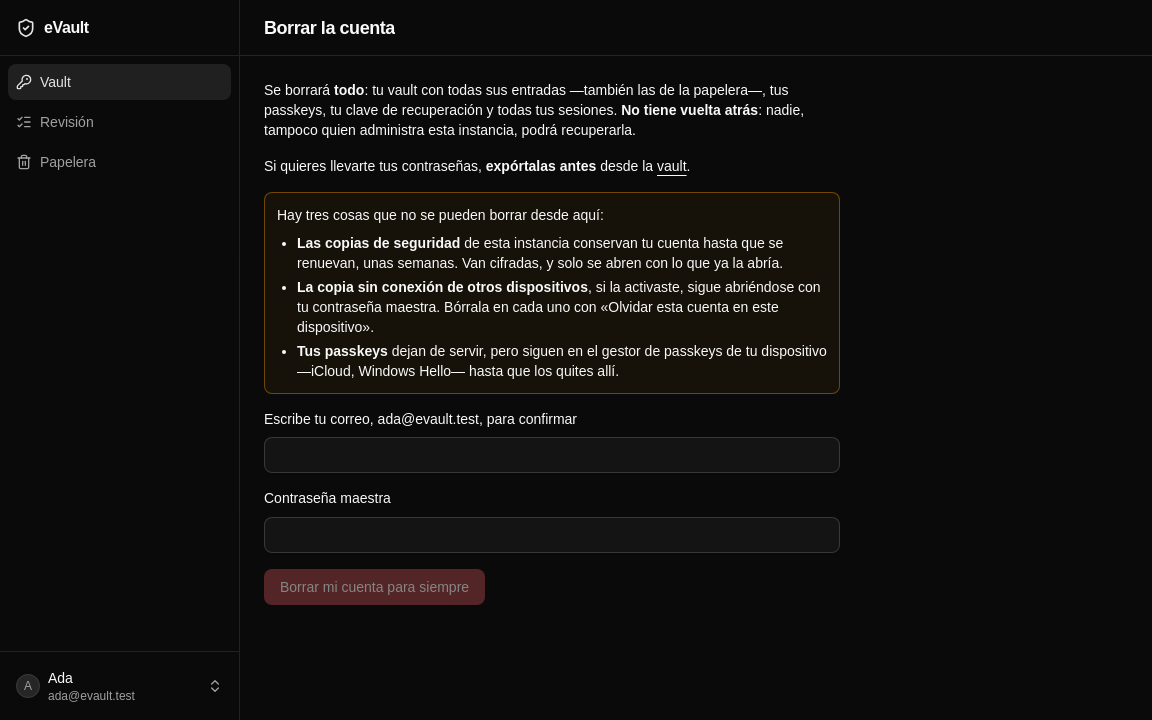
Test: deleting › says what failed and that nothing was deleted
Type "ada@evault.test" into the field labelled "Escribe tu correo, ada@evault.test, para confirmar" at (552, 455), box [264,437,840,473]
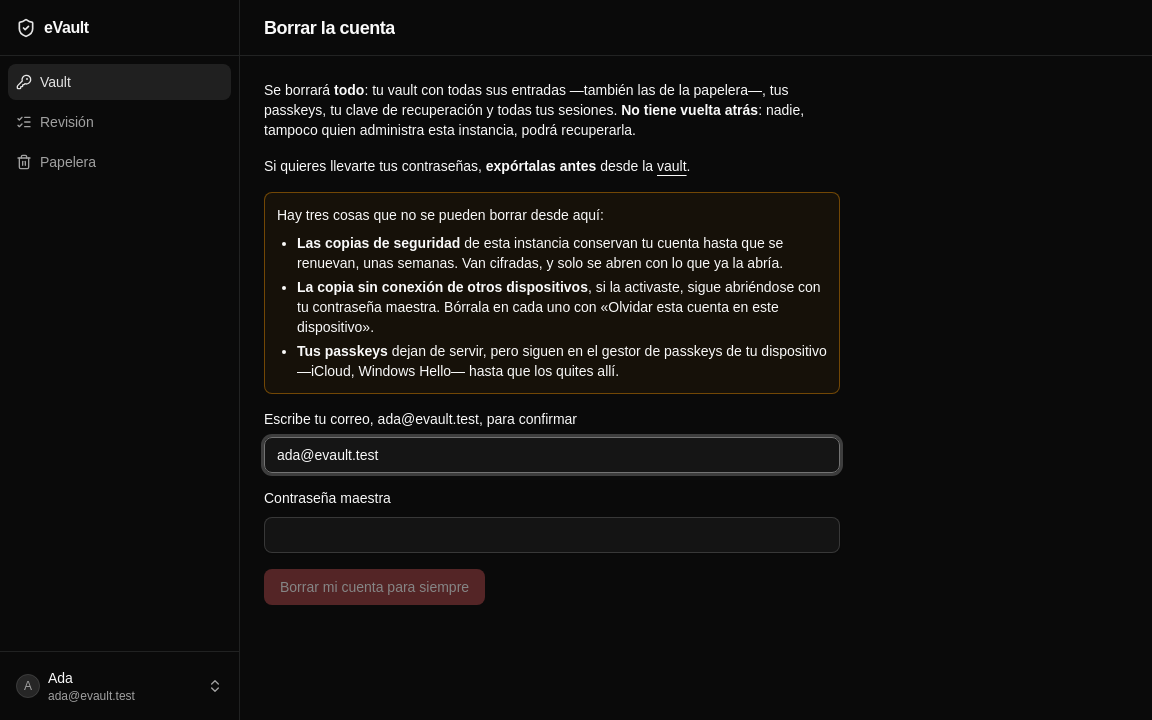
Type "maestra" into the password field labelled "Contraseña maestra" at (552, 534), box [264,516,840,552]
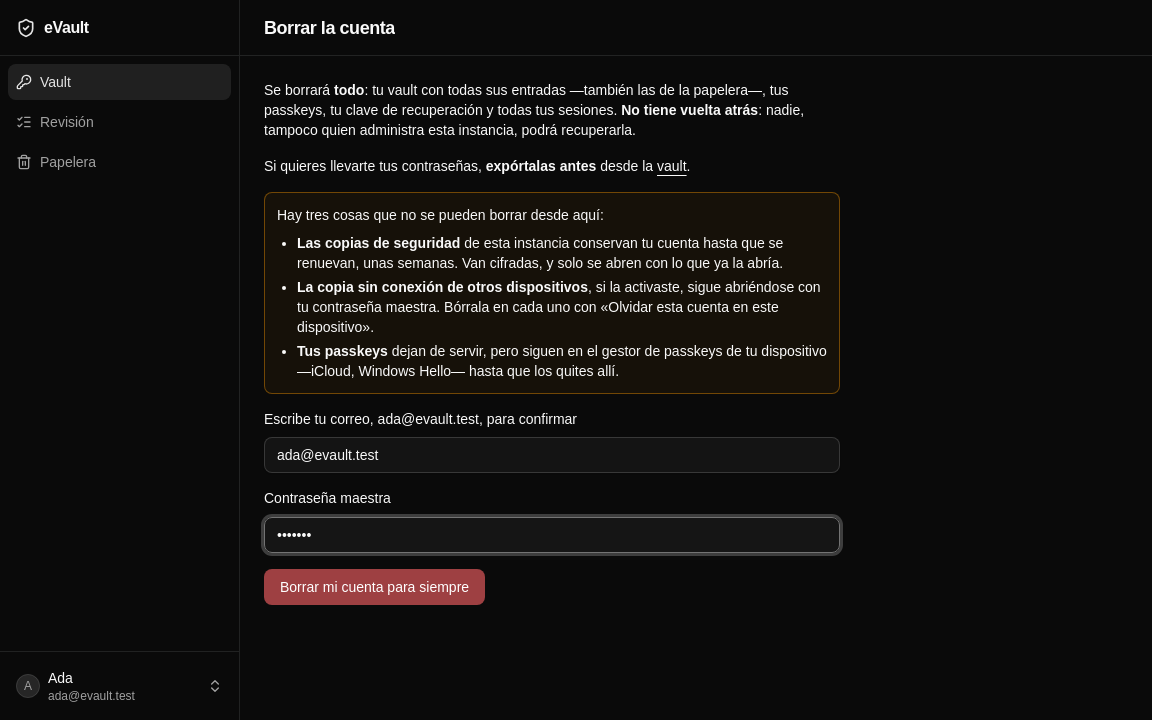
Click the button "Borrar mi cuenta para siempre" at (375, 586), box [264,568,485,604]
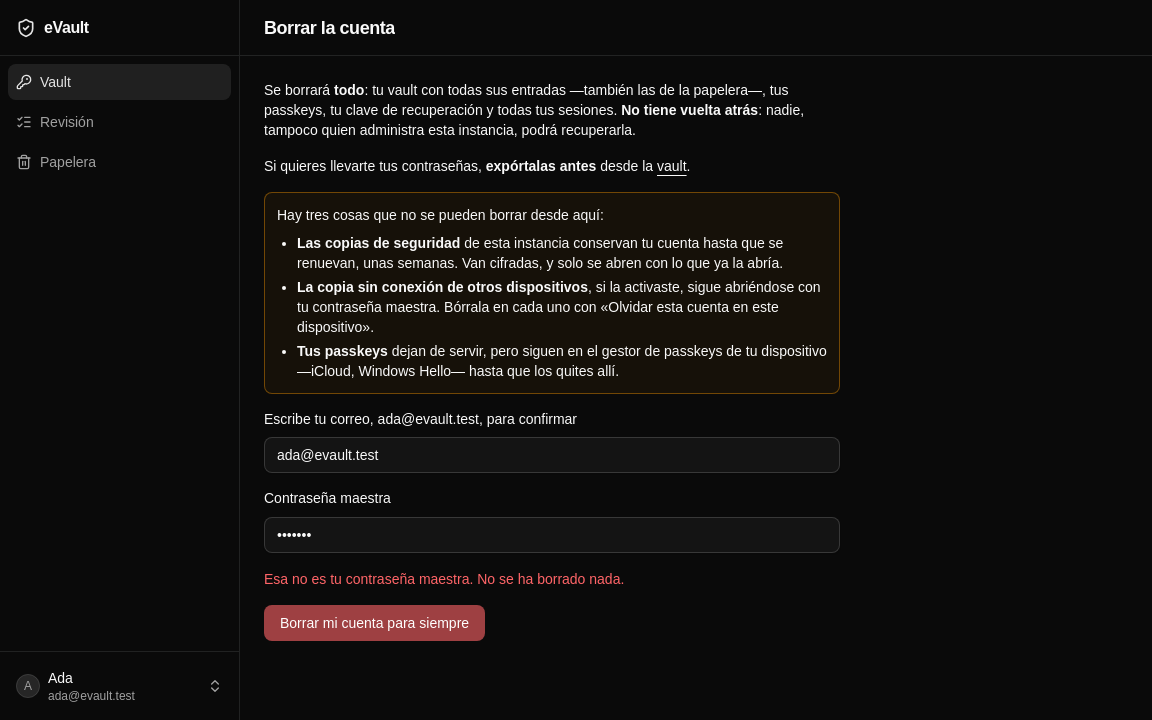
expect the button "Borrar mi cuenta para siempre" is enabled: met, box [264,604,485,640]
expect the message reads "Esa no es tu contraseña maestra. No se ha borrado nada.": met, box [264,570,624,586]
